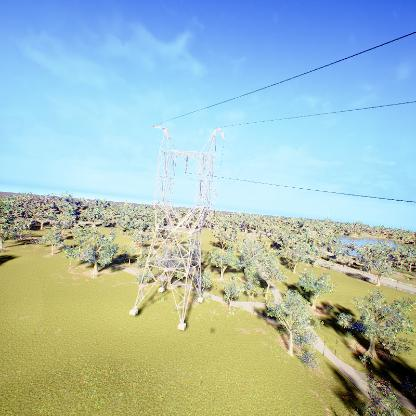tower: (126, 117, 236, 332)
